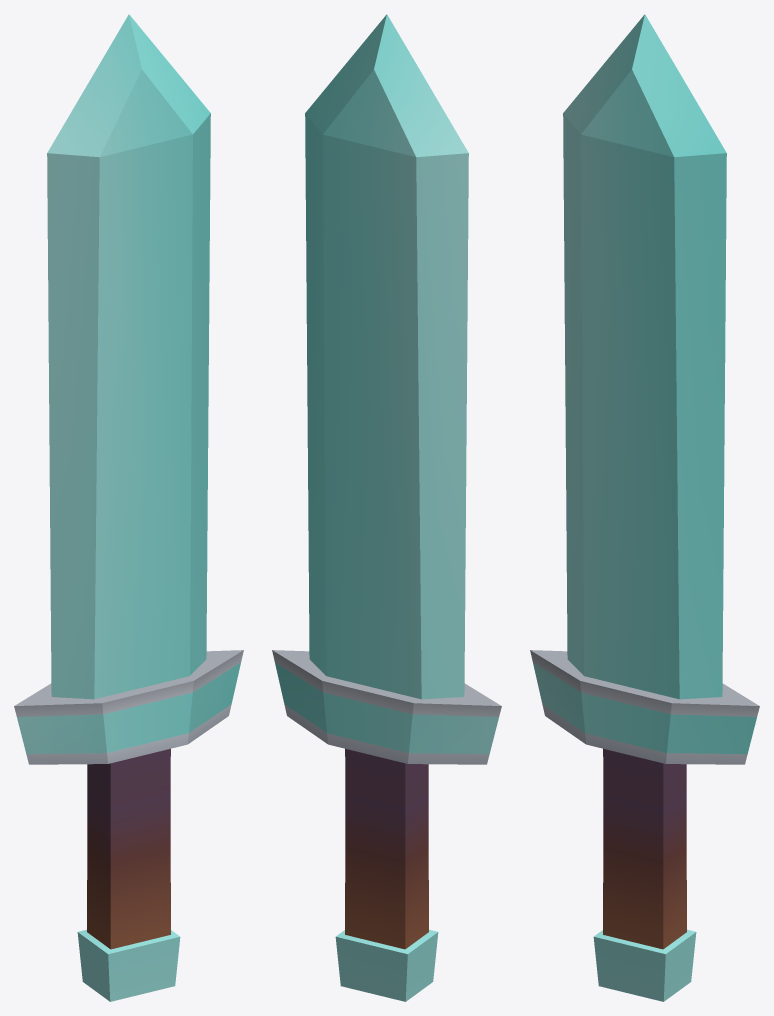
The model's file is Diamond_Sword.fbx.
3 renders of one model, left to right at view 1: azimuth 30°, elevation 25°; view 2: azimuth 150°, elevation 25°; view 3: azimuth 330°, elevation 25°, orthographic.
Visible parts, largest first — view 1: Diamond_Sword; view 2: Diamond_Sword; view 3: Diamond_Sword.
Part boxes in pixels (left/top/right/bottom): Diamond_Sword: left=14, top=14, right=243, bottom=1001; Diamond_Sword: left=272, top=14, right=501, bottom=1001; Diamond_Sword: left=530, top=14, right=759, bottom=1001.
Size of the model in its own units: 26.55 by 107 by 7.6.
1 material, 1 textured.
